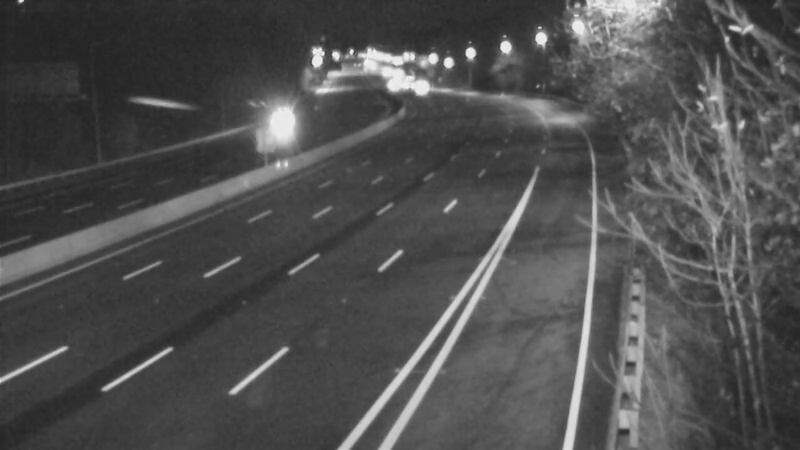vehicle: (391, 61, 441, 111), (262, 97, 312, 147)
